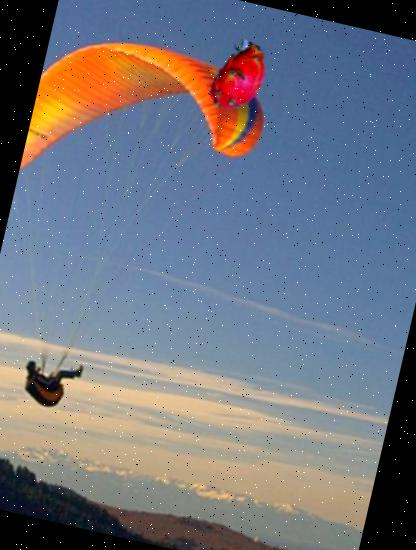Pitahaya: (194, 34, 284, 122)
